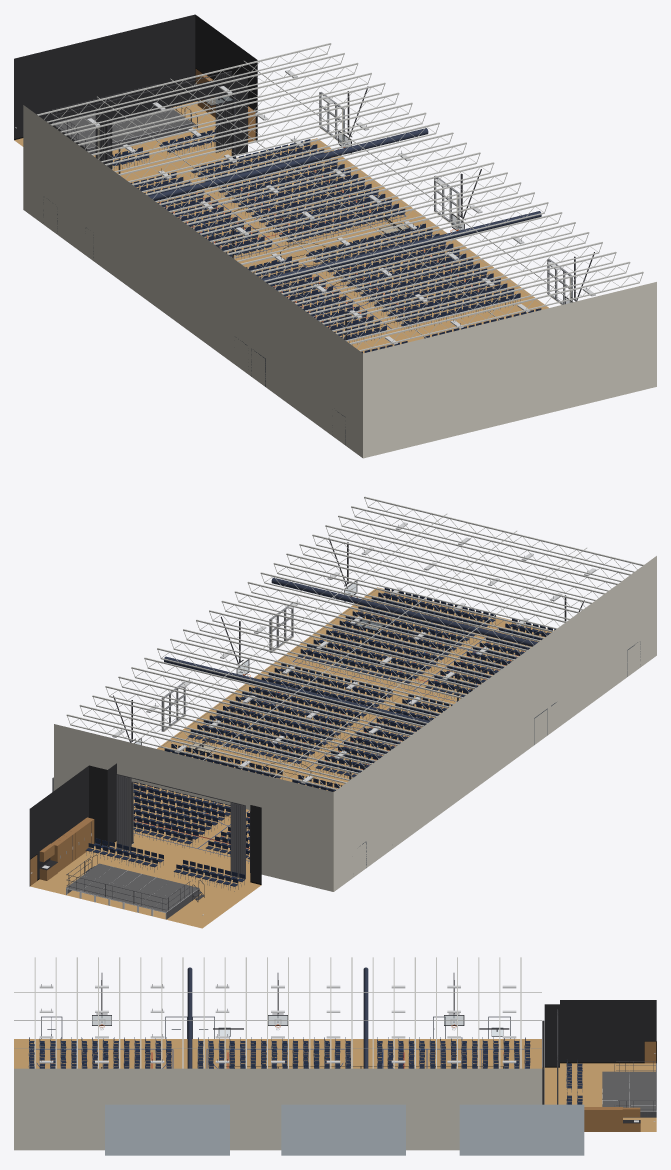
3 views of the same model, one above another, from view 1: azimuth 30°, elevation 25°; view 2: azimuth 150°, elevation 25°; view 3: azimuth 270°, elevation 25° (orthographic). The views are drawn at different scales.
Visible parts, largest first — view 1: gym_cmu, gym_steel, gym_chair_seat, floor, wall, gym_chair_leg, gym_vinyl, stage_hardware, stage_deck_top, gym_fixture, gym_steel_dark, gym_mullion; view 2: gym_cmu, gym_steel, floor, gym_chair_seat, wall, gym_chair_leg, stage_hardware, stage_deck_top, gym_vinyl, millwork, gym_fixture, gym_steel_dark (+2 smaller); view 3: gym_cmu, gym_sky, floor, gym_chair_seat, wall, gym_steel, stage_deck_top, gym_fixture, gym_chair_leg, millwork, gym_vinyl, gym_glass (+4 smaller).
Boxes of the visible parts, <box> form: gym_cmu: <box>23,105,656,458</box>; gym_steel: <box>36,43,643,351</box>; gym_chair_seat: <box>112,129,541,352</box>; floor: <box>14,101,548,353</box>; wall: <box>14,14,257,155</box>; gym_chair_leg: <box>112,135,520,344</box>; gym_vinyl: <box>148,128,541,283</box>; stage_hardware: <box>52,71,231,169</box>; stage_deck_top: <box>52,107,191,148</box>; gym_fixture: <box>87,70,595,344</box>; gym_steel_dark: <box>96,86,594,340</box>; gym_mullion: <box>319,92,572,304</box>; gym_cmu: <box>54,556,656,891</box>; gym_steel: <box>66,496,644,790</box>; floor: <box>30,587,554,928</box>; gym_chair_seat: <box>85,588,555,886</box>; wall: <box>29,763,261,884</box>; gym_chair_leg: <box>86,592,545,891</box>; stage_hardware: <box>66,774,245,910</box>; stage_deck_top: <box>66,863,198,911</box>; gym_vinyl: <box>164,577,537,725</box>; millwork: <box>30,817,94,885</box>; gym_fixture: <box>112,522,596,783</box>; gym_steel_dark: <box>113,525,587,872</box>; gym_cmu: <box>14,1068,544,1150</box>; gym_sky: <box>105,1104,584,1155</box>; floor: <box>14,1039,656,1131</box>; gym_chair_seat: <box>29,1037,582,1104</box>; wall: <box>544,1000,656,1123</box>; gym_steel: <box>14,957,541,1068</box>; stage_deck_top: <box>602,1071,656,1111</box>; gym_fixture: <box>39,985,516,1063</box>; gym_chair_leg: <box>28,1039,582,1104</box>; millwork: <box>584,1041,656,1131</box>; gym_vinyl: <box>187,967,368,1068</box>; gym_glass: <box>92,1015,502,1035</box>.
Bounding box in the file's own units: 24.96 × 8.12 × 57.91.
